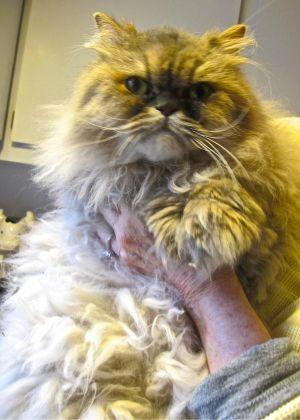persian: (69, 1, 268, 173)
